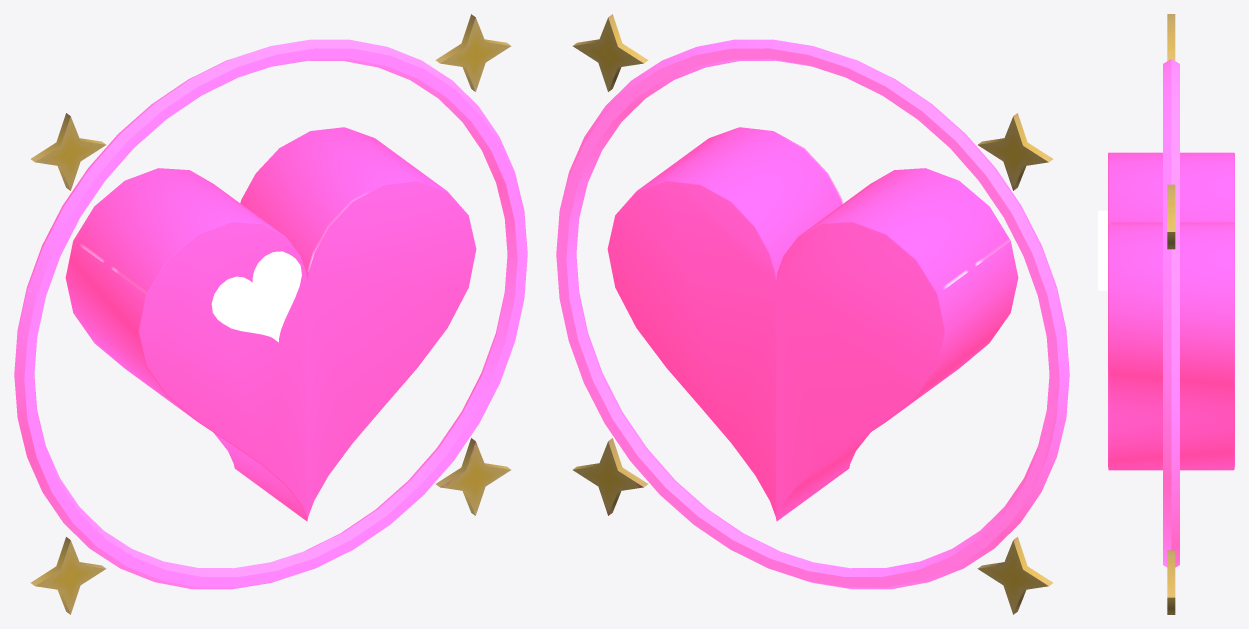
File: mu_powerup_heart.glb
3 renders of one model, left to right at view 1: azimuth 30°, elevation 25°; view 2: azimuth 150°, elevation 25°; view 3: azimuth 270°, elevation 25°, orthographic. The views are drawn at different scales.
Visible parts, largest first — view 1: mu_powerup_heart; view 2: mu_powerup_heart; view 3: mu_powerup_heart.
Boxes of the visible parts, bbox=[...] form: mu_powerup_heart: bbox=[14, 14, 527, 614]; mu_powerup_heart: bbox=[556, 14, 1069, 614]; mu_powerup_heart: bbox=[1098, 14, 1234, 614].
Size of the model in its own units: 1.29 by 1.29 by 0.345.
Materials: 4 (4 with a texture image).
